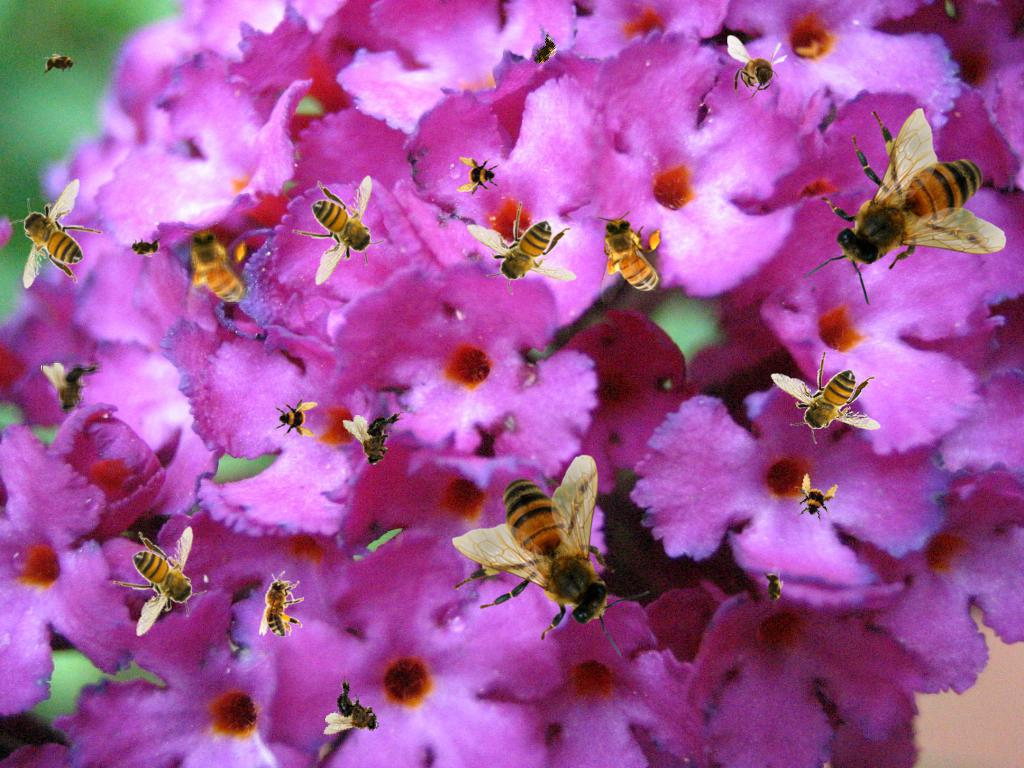Bee: (452, 454, 651, 658), (803, 108, 1007, 307), (466, 201, 577, 295), (770, 350, 881, 444), (292, 175, 386, 286), (113, 526, 207, 637), (9, 178, 103, 289), (596, 211, 664, 304), (182, 223, 250, 316), (320, 674, 391, 750), (341, 407, 412, 471), (727, 35, 788, 105), (40, 359, 105, 415), (259, 571, 304, 637), (787, 471, 841, 525), (522, 29, 566, 75), (456, 155, 500, 199), (274, 395, 318, 439), (125, 236, 165, 258), (762, 568, 784, 608), (40, 53, 80, 75)
